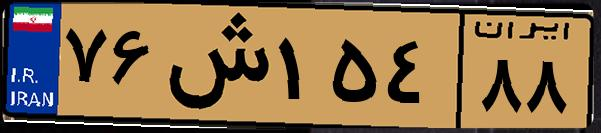1: (270, 28, 330, 110)
4: (385, 28, 445, 110)
5: (330, 28, 385, 110)
6: (110, 28, 158, 98)
7: (57, 26, 110, 100)
8: (475, 38, 525, 113), (525, 38, 570, 115)
ش: (158, 12, 270, 120)
